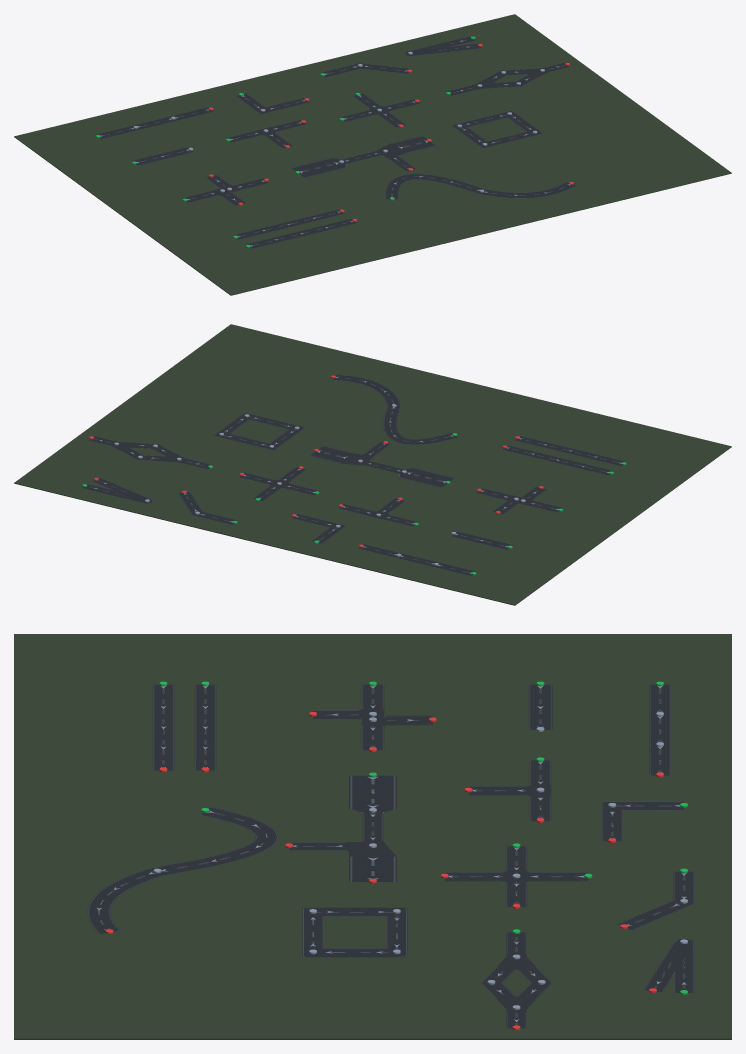
Rendered from road_geometry_test_scene_scene.glb.
The picture shows the model from 3 angles, top to bottom: view 1: azimuth 30°, elevation 25°; view 2: azimuth 150°, elevation 25°; view 3: azimuth 270°, elevation 25°; orthographic projection. The views are drawn at different scales.
Visible parts, largest first — view 1: GroundPlane, RoadSurface_net_10, RoadSurface_net_14, RoadSurface_net_11, RoadSurface_net_8, RoadSurface_net_7, RoadSurface_net_9, RoadSurface_net_1, RoadSurface_net_13, RoadSurface_net_12, RoadSurface_net_6, RoadSurface_net_4 (+2 smaller); view 2: GroundPlane, RoadSurface_net_10, RoadSurface_net_14, RoadSurface_net_11, RoadSurface_net_8, RoadSurface_net_7, RoadSurface_net_9, RoadSurface_net_1, RoadSurface_net_12, RoadSurface_net_13, RoadSurface_net_6, RoadSurface_net_4 (+2 smaller); view 3: GroundPlane, RoadSurface_net_10, RoadSurface_net_14, RoadSurface_net_11, RoadSurface_net_8, RoadSurface_net_7, RoadSurface_net_9, RoadSurface_net_12, RoadSurface_net_13, RoadSurface_net_6, RoadSurface_net_1, RoadSurface_net_4 (+3 smaller).
Boxes of the visible parts, bbox=[...] form: GroundPlane: bbox=[14, 14, 731, 295]; RoadSurface_net_10: bbox=[291, 135, 436, 177]; RoadSurface_net_14: bbox=[385, 173, 576, 199]; RoadSurface_net_11: bbox=[451, 110, 543, 148]; RoadSurface_net_8: bbox=[446, 62, 569, 95]; RoadSurface_net_7: bbox=[339, 93, 420, 127]; RoadSurface_net_9: bbox=[182, 175, 269, 205]; RoadSurface_net_1: bbox=[95, 107, 213, 139]; RoadSurface_net_13: bbox=[245, 218, 357, 248]; RoadSurface_net_12: bbox=[233, 209, 344, 239]; RoadSurface_net_6: bbox=[225, 120, 306, 148]; RoadSurface_net_4: bbox=[404, 36, 481, 56]; GroundPlane: bbox=[14, 324, 731, 605]; RoadSurface_net_10: bbox=[309, 441, 454, 487]; RoadSurface_net_14: bbox=[333, 374, 458, 444]; RoadSurface_net_11: bbox=[213, 412, 305, 450]; RoadSurface_net_8: bbox=[89, 436, 213, 469]; RoadSurface_net_7: bbox=[239, 467, 319, 501]; RoadSurface_net_9: bbox=[476, 486, 563, 513]; RoadSurface_net_1: bbox=[358, 544, 476, 576]; RoadSurface_net_12: bbox=[502, 445, 614, 475]; RoadSurface_net_13: bbox=[514, 436, 626, 466]; RoadSurface_net_6: bbox=[338, 498, 419, 526]; RoadSurface_net_4: bbox=[82, 478, 153, 503]; GroundPlane: bbox=[14, 634, 731, 1039]; RoadSurface_net_10: bbox=[289, 775, 396, 881]; RoadSurface_net_14: bbox=[87, 806, 278, 934]; RoadSurface_net_11: bbox=[302, 907, 407, 957]; RoadSurface_net_8: bbox=[481, 932, 552, 1028]; RoadSurface_net_7: bbox=[444, 846, 588, 906]; RoadSurface_net_9: bbox=[313, 684, 432, 750]; RoadSurface_net_12: bbox=[194, 684, 216, 770]; RoadSurface_net_13: bbox=[152, 684, 174, 770]; RoadSurface_net_6: bbox=[468, 760, 551, 821]; RoadSurface_net_1: bbox=[649, 684, 670, 775]; RoadSurface_net_4: bbox=[643, 938, 694, 992].
Size of the model in its own units: 160 by 0.5 by 120.
81 materials, 14 textured.
